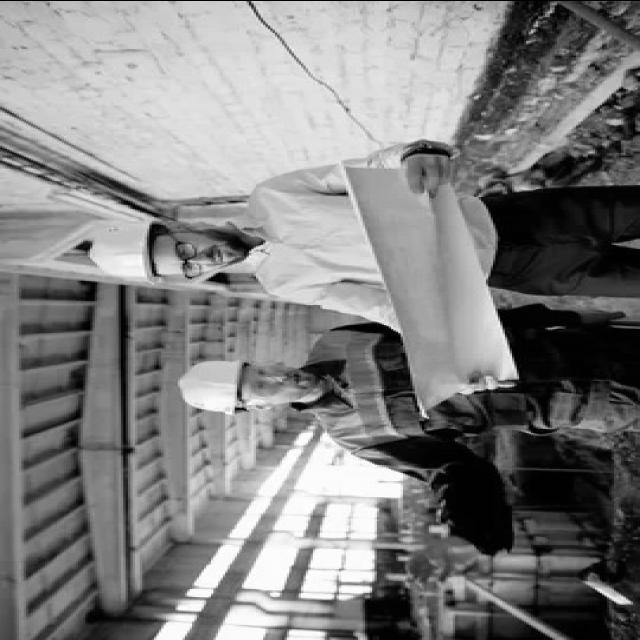safety_helmet: (92, 221, 154, 281)
